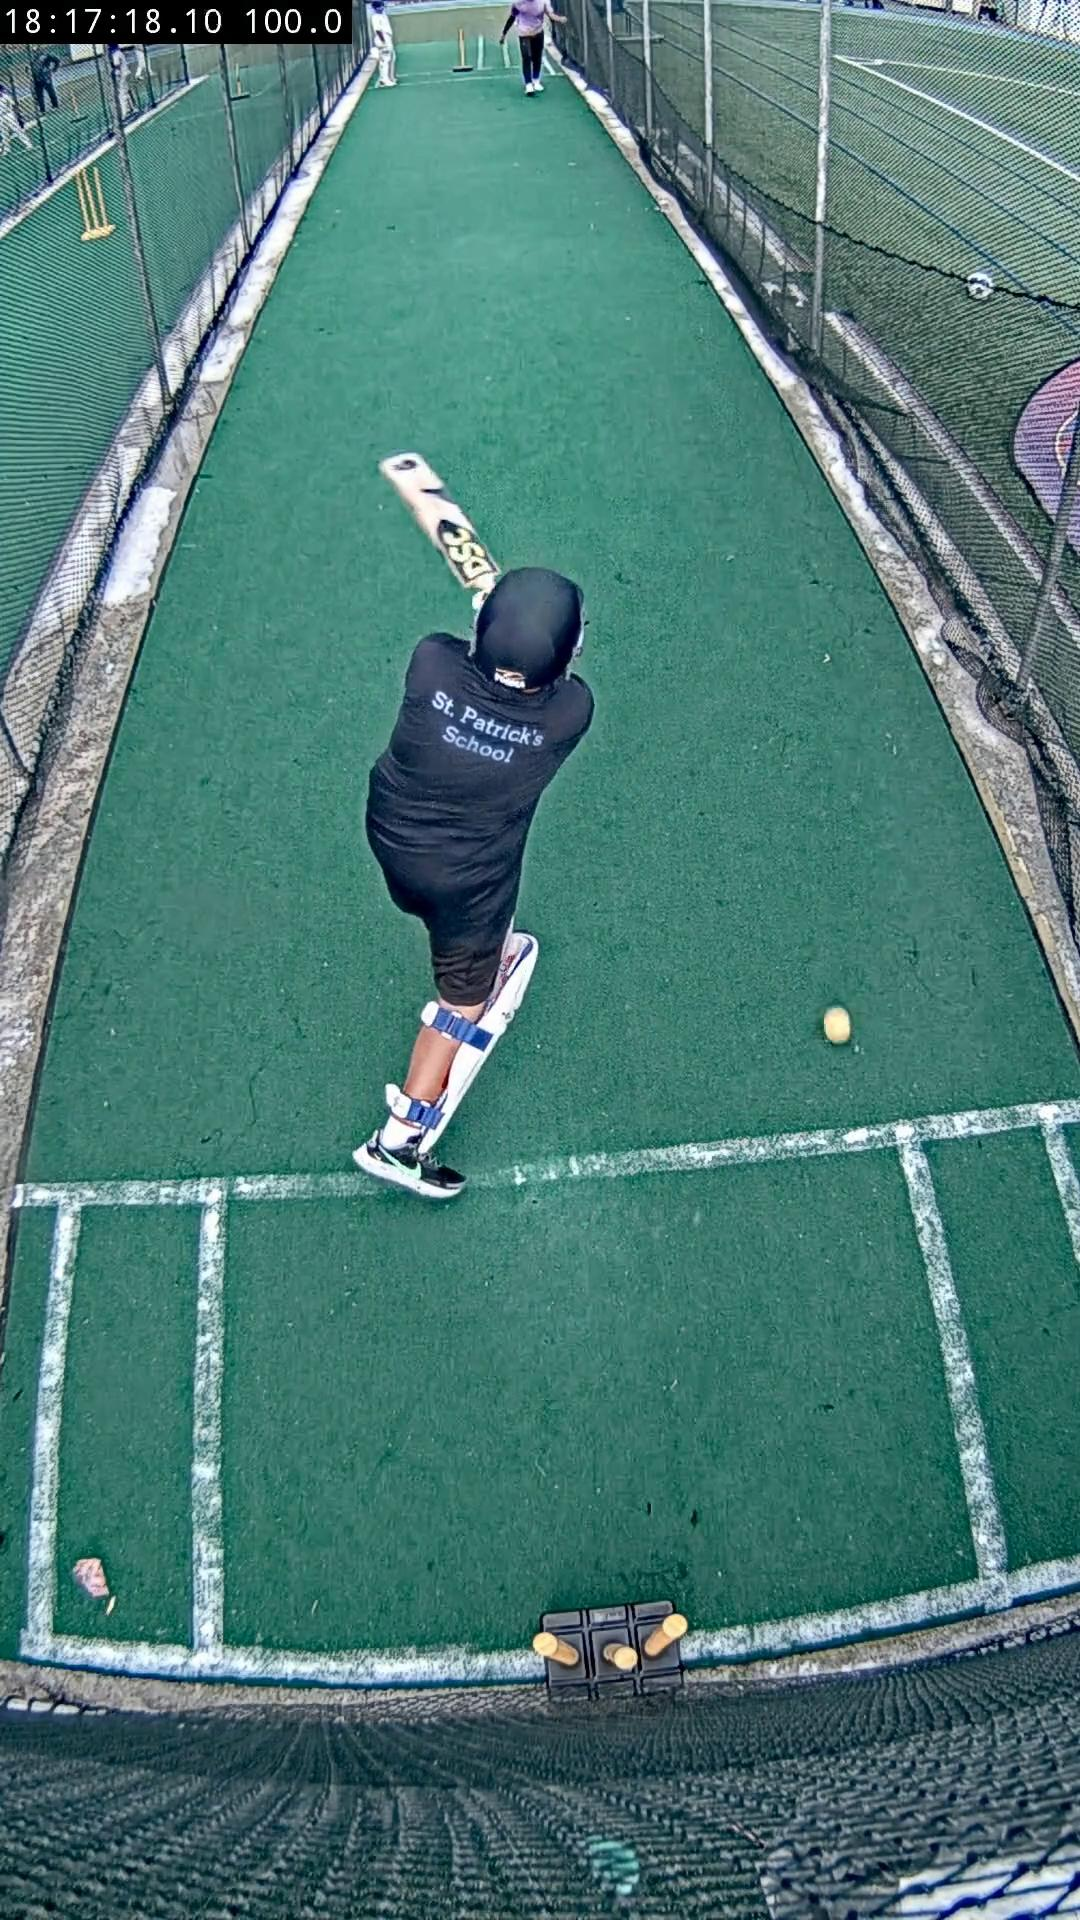ball: (825, 1005, 852, 1043)
bat: (378, 454, 498, 588)
gloves: (472, 588, 488, 609)
helmet: (472, 566, 582, 692)
pads: (419, 932, 541, 1150)
stumps: (533, 1601, 686, 1697)
